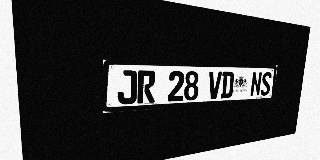2: (168, 71, 185, 102)
8: (184, 71, 200, 101)
D: (220, 71, 234, 98)
J: (117, 70, 137, 105)
N: (250, 72, 262, 96)
R: (137, 70, 156, 104)
S: (260, 72, 272, 96)
V: (207, 71, 222, 99)
